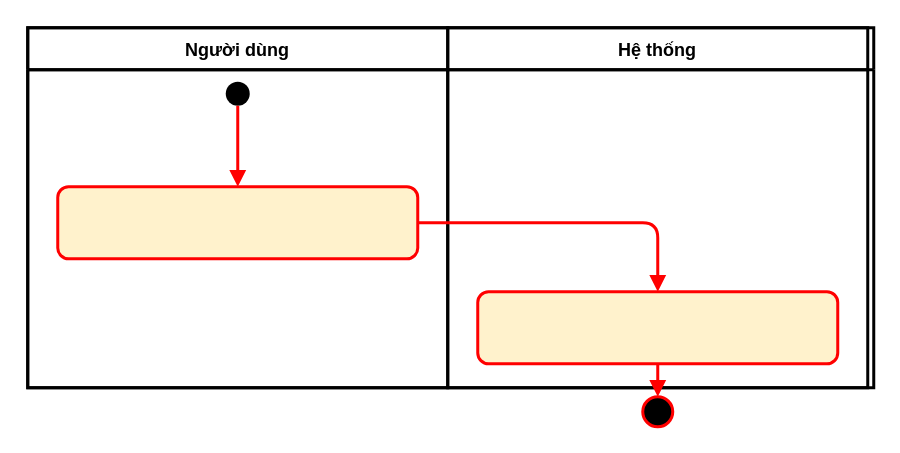
Some shapes in this 900 by 453 pixel diagram are drawn without their labels. The centre of each missing label's shape, as x and y in pixels:
1. Thực hiện thao tác: point (237, 222)
2. Xử lý và phản hồi: point (657, 327)
